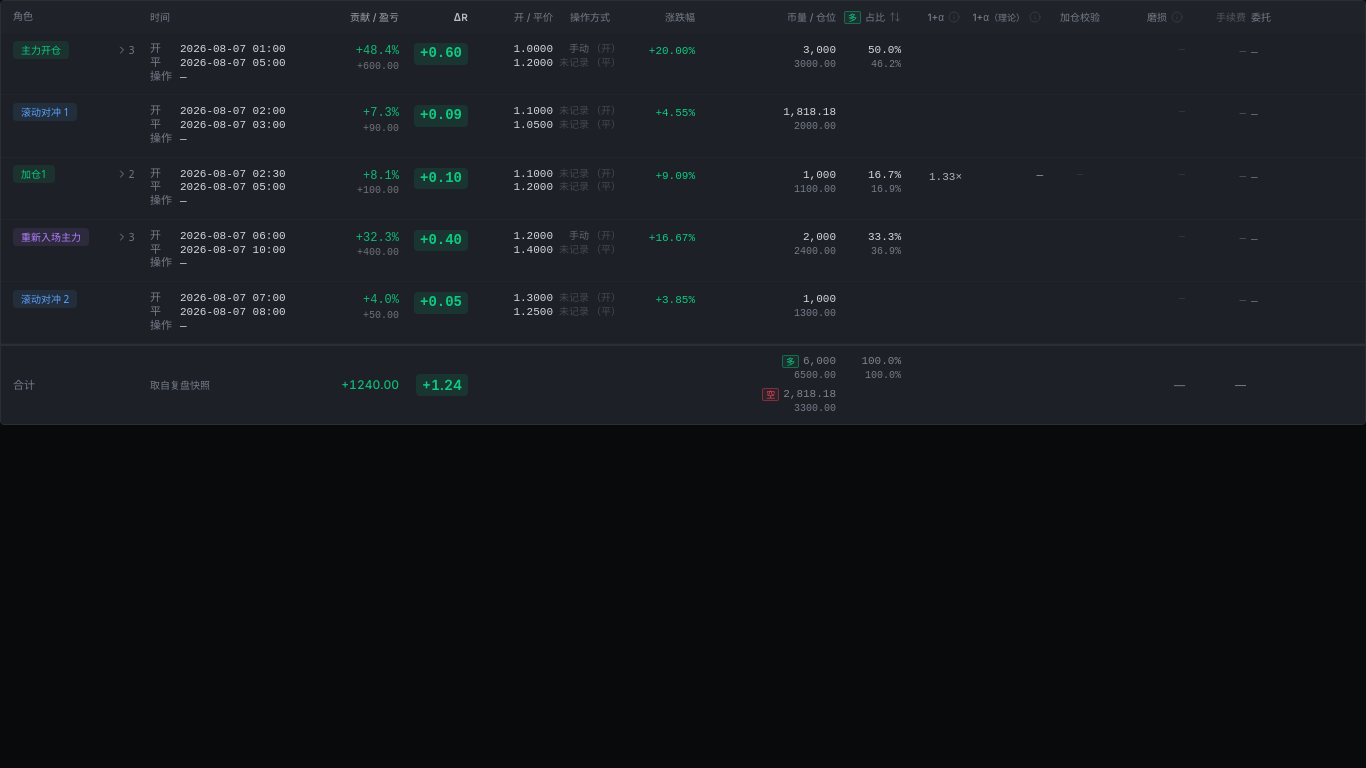
Test: 【用户要求】主力与其他多单的阶段子行默认折叠，收尾不呈现 › 展开状态按腿各记各的：展开主力开仓不会展开重新入场主力
Click the button "3" next to "主力开仓": click(127, 50) [113,41,141,59]
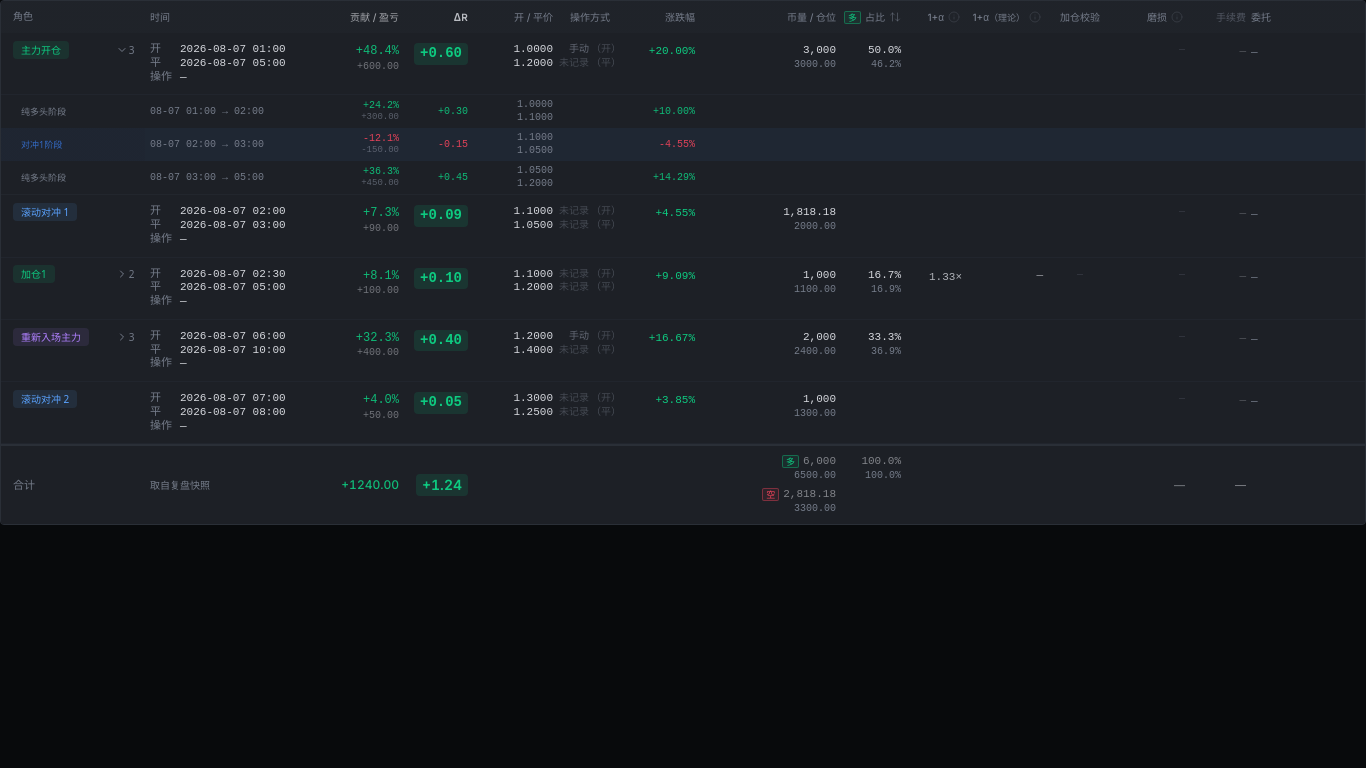
Now the element with test id "leg-phases-main" is shown, box [1,95,1365,195]
Click the button "3" next to "重新入场主力": click(127, 337) [113,328,141,346]
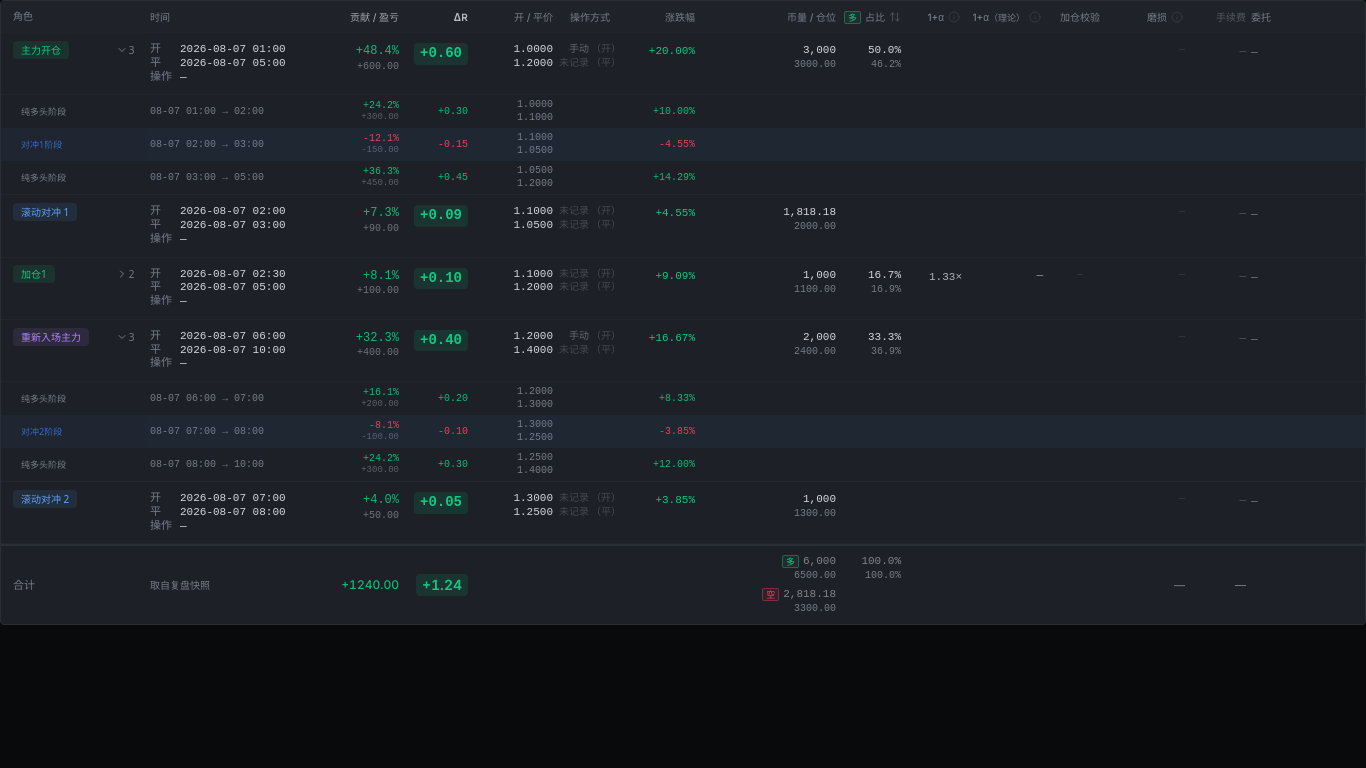
Now the element with test id "leg-phases-reentry" is shown, box [1,382,1365,482]
Click the button "3" next to "主力开仓": click(127, 50) [113,41,141,59]
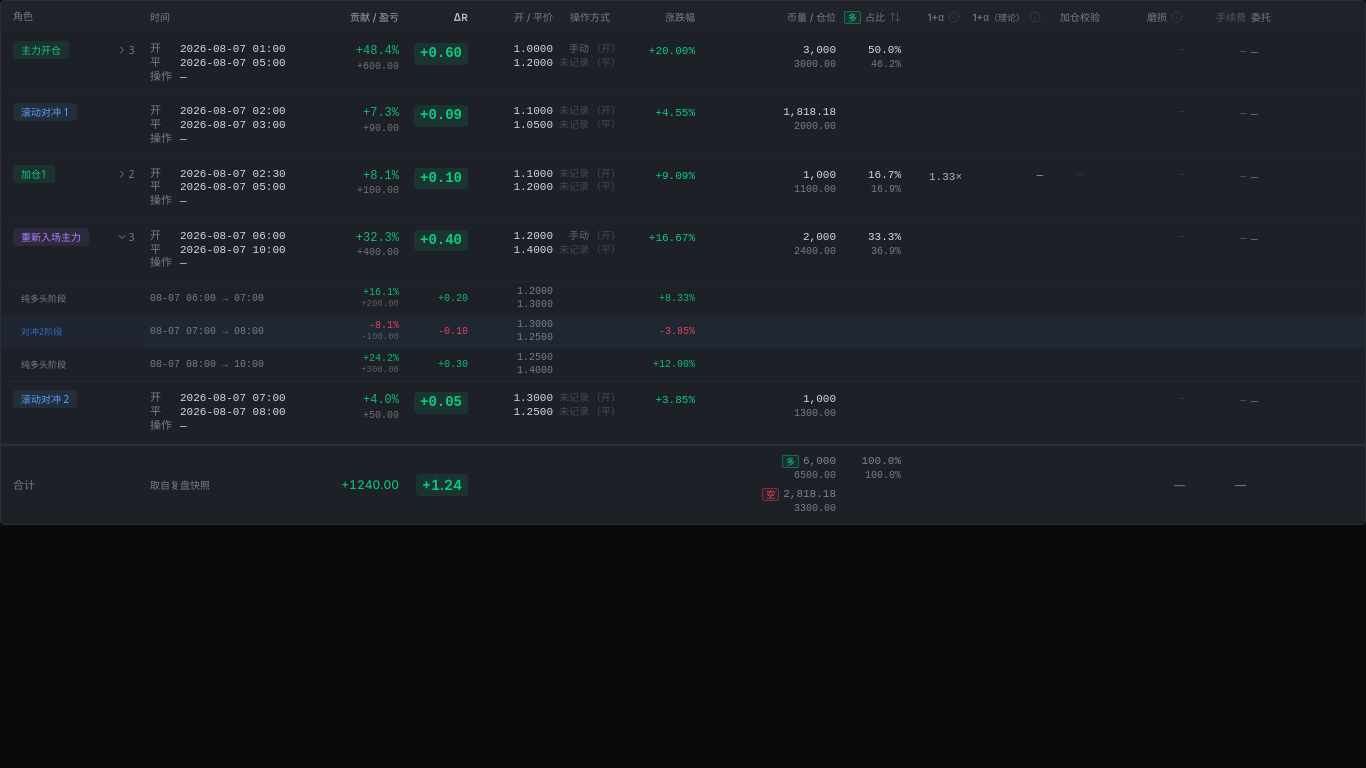
Now the element with test id "leg-phases-reentry" is shown, box [1,282,1365,382]
Now the element with test id "leg-phases-main" is gone
